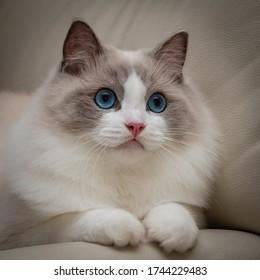ragdoll: (47, 15, 197, 175)
